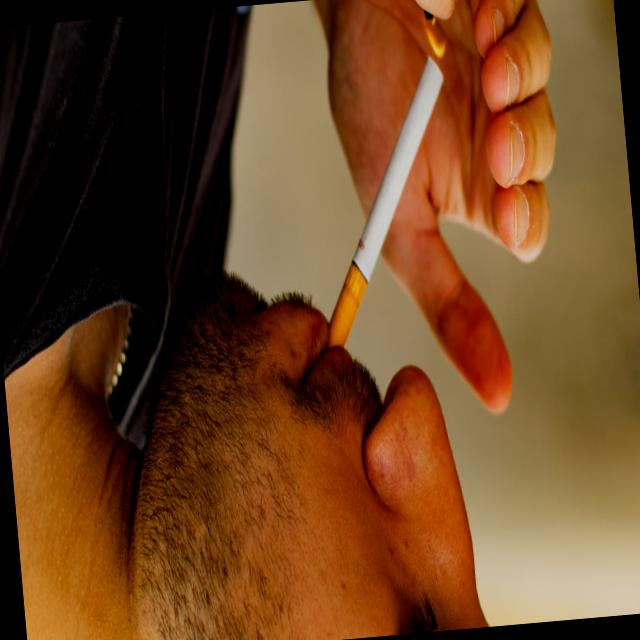smoke: (302, 51, 468, 354)
